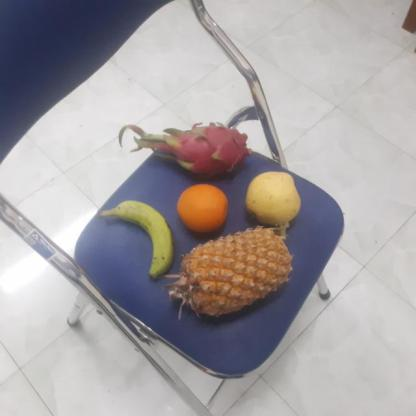banana: (110, 199, 176, 277)
orange: (175, 184, 231, 237)
pear: (240, 171, 301, 226)
pineapple: (171, 230, 291, 315)
pitaya: (160, 123, 249, 180)
